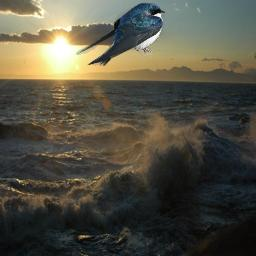Swallow: (76, 2, 165, 66)
